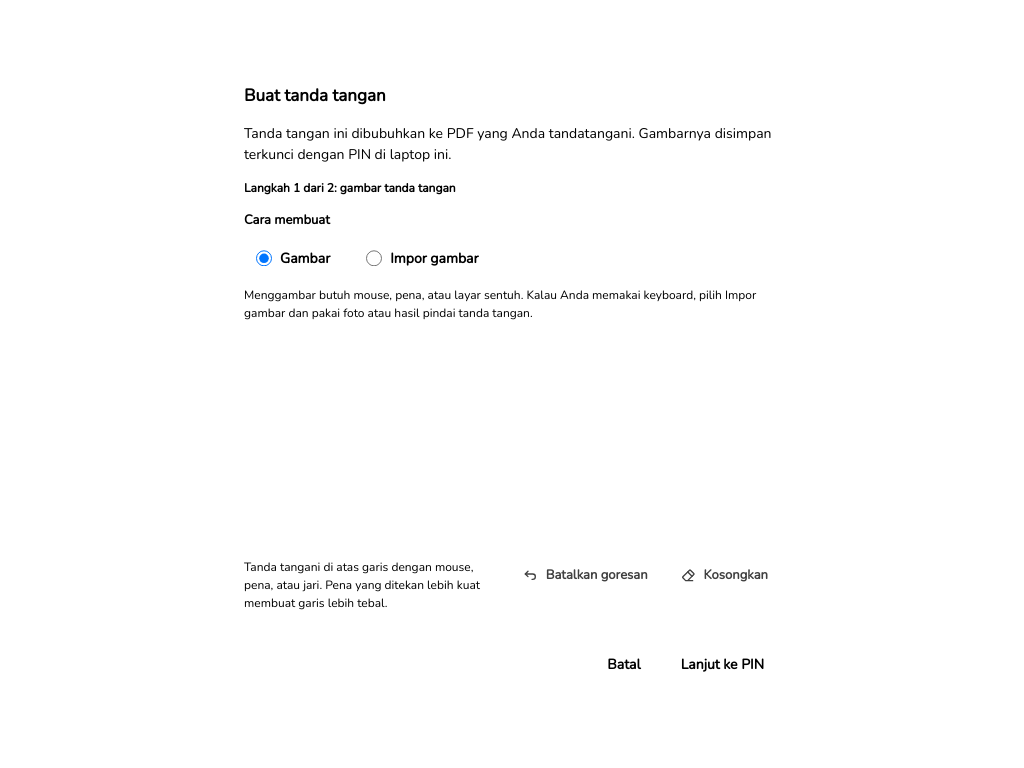
Test: SignatureSetupDialog › tidak lanjut ke PIN sebelum ada gambar
Step 1. Click the button "Lanjut ke PIN" → (722, 665), box [665,645,780,685]
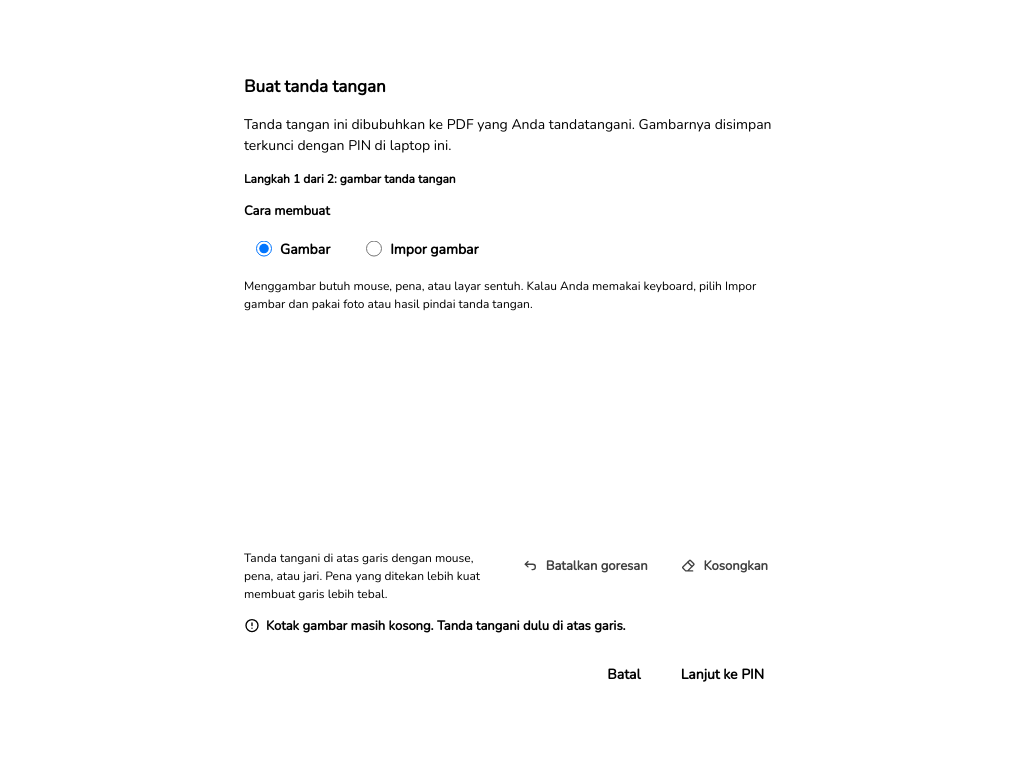
Check: the text "Kotak gambar masih kosong. Tanda tangani dulu di atas garis." is shown, box [244,617,626,635]
Step 2. Click the radio button labelled "Impor gambar" → (374, 249), box [366,241,382,257]
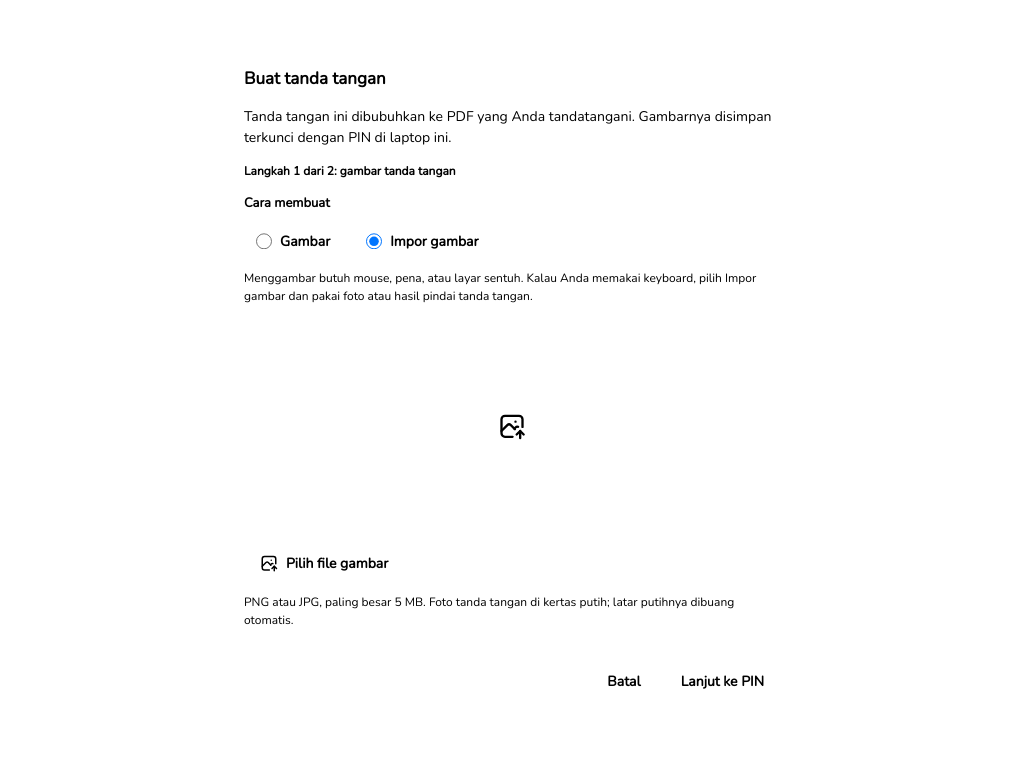
Step 3. Click the button "Lanjut ke PIN" → (722, 682), box [665,662,780,702]
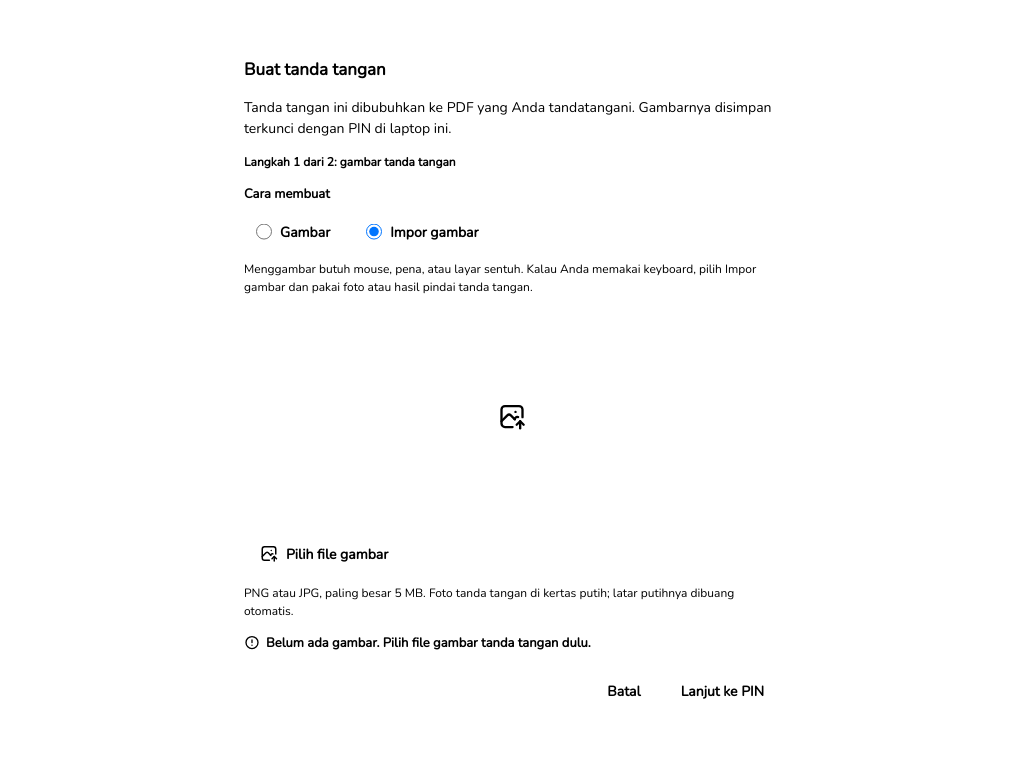
Check: the text "Belum ada gambar. Pilih file gambar tanda tangan dulu." is shown, box [244,634,591,652]
